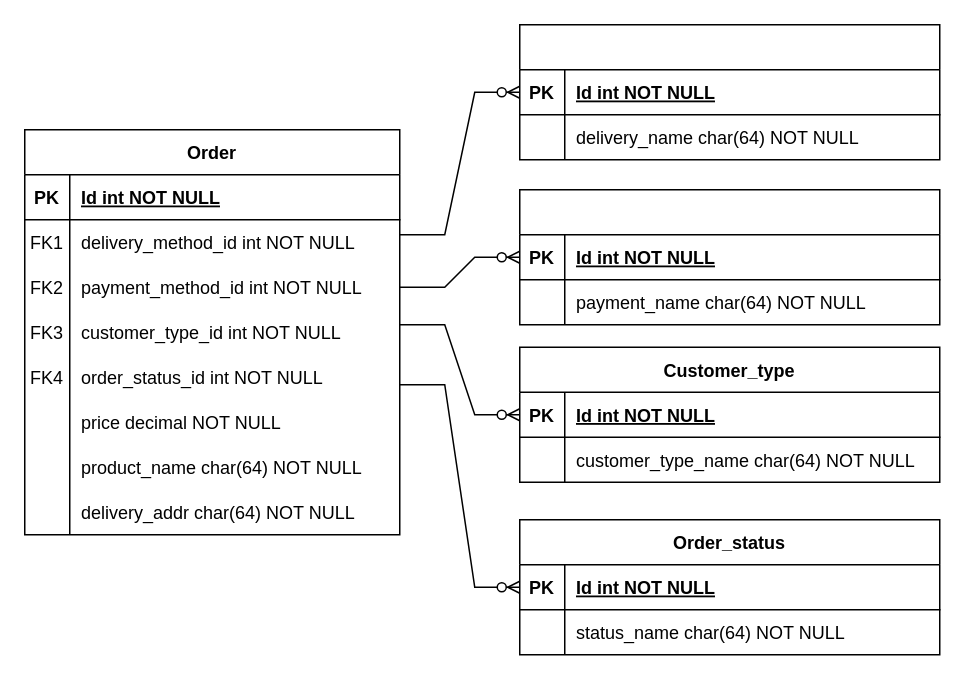
This 965x680 diagram has some shape labels left out. Here are the shapes that lost their labels. From the top down, the box of each, then its label:
(518, 23, 940, 160): Delivery_method
(518, 188, 940, 325): Payment_method
